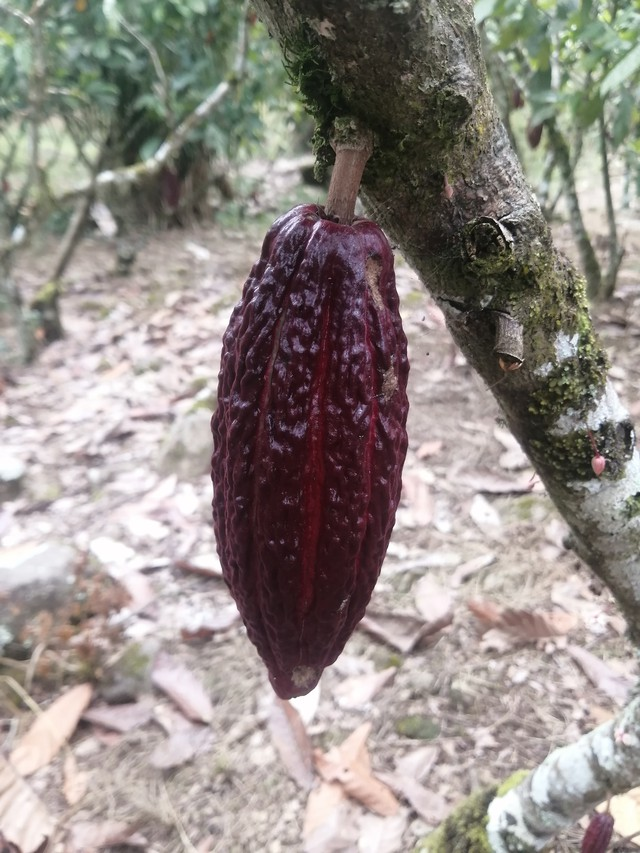Health: (197, 190, 421, 707)
